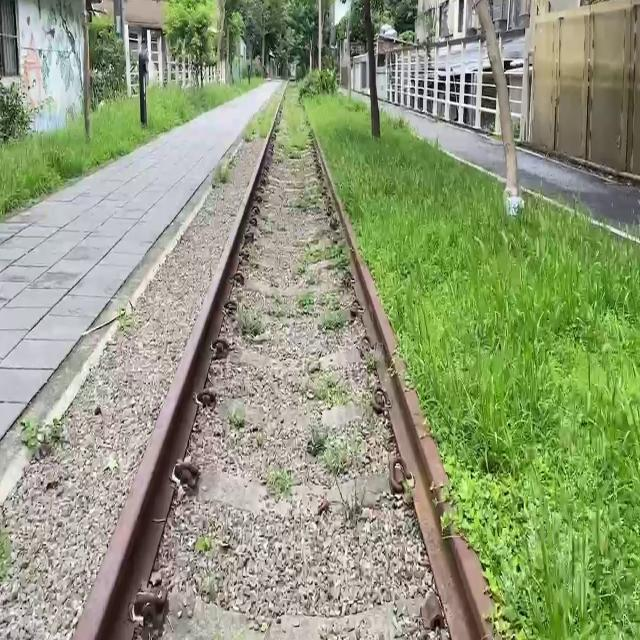rail-track: (150, 90, 449, 639)
